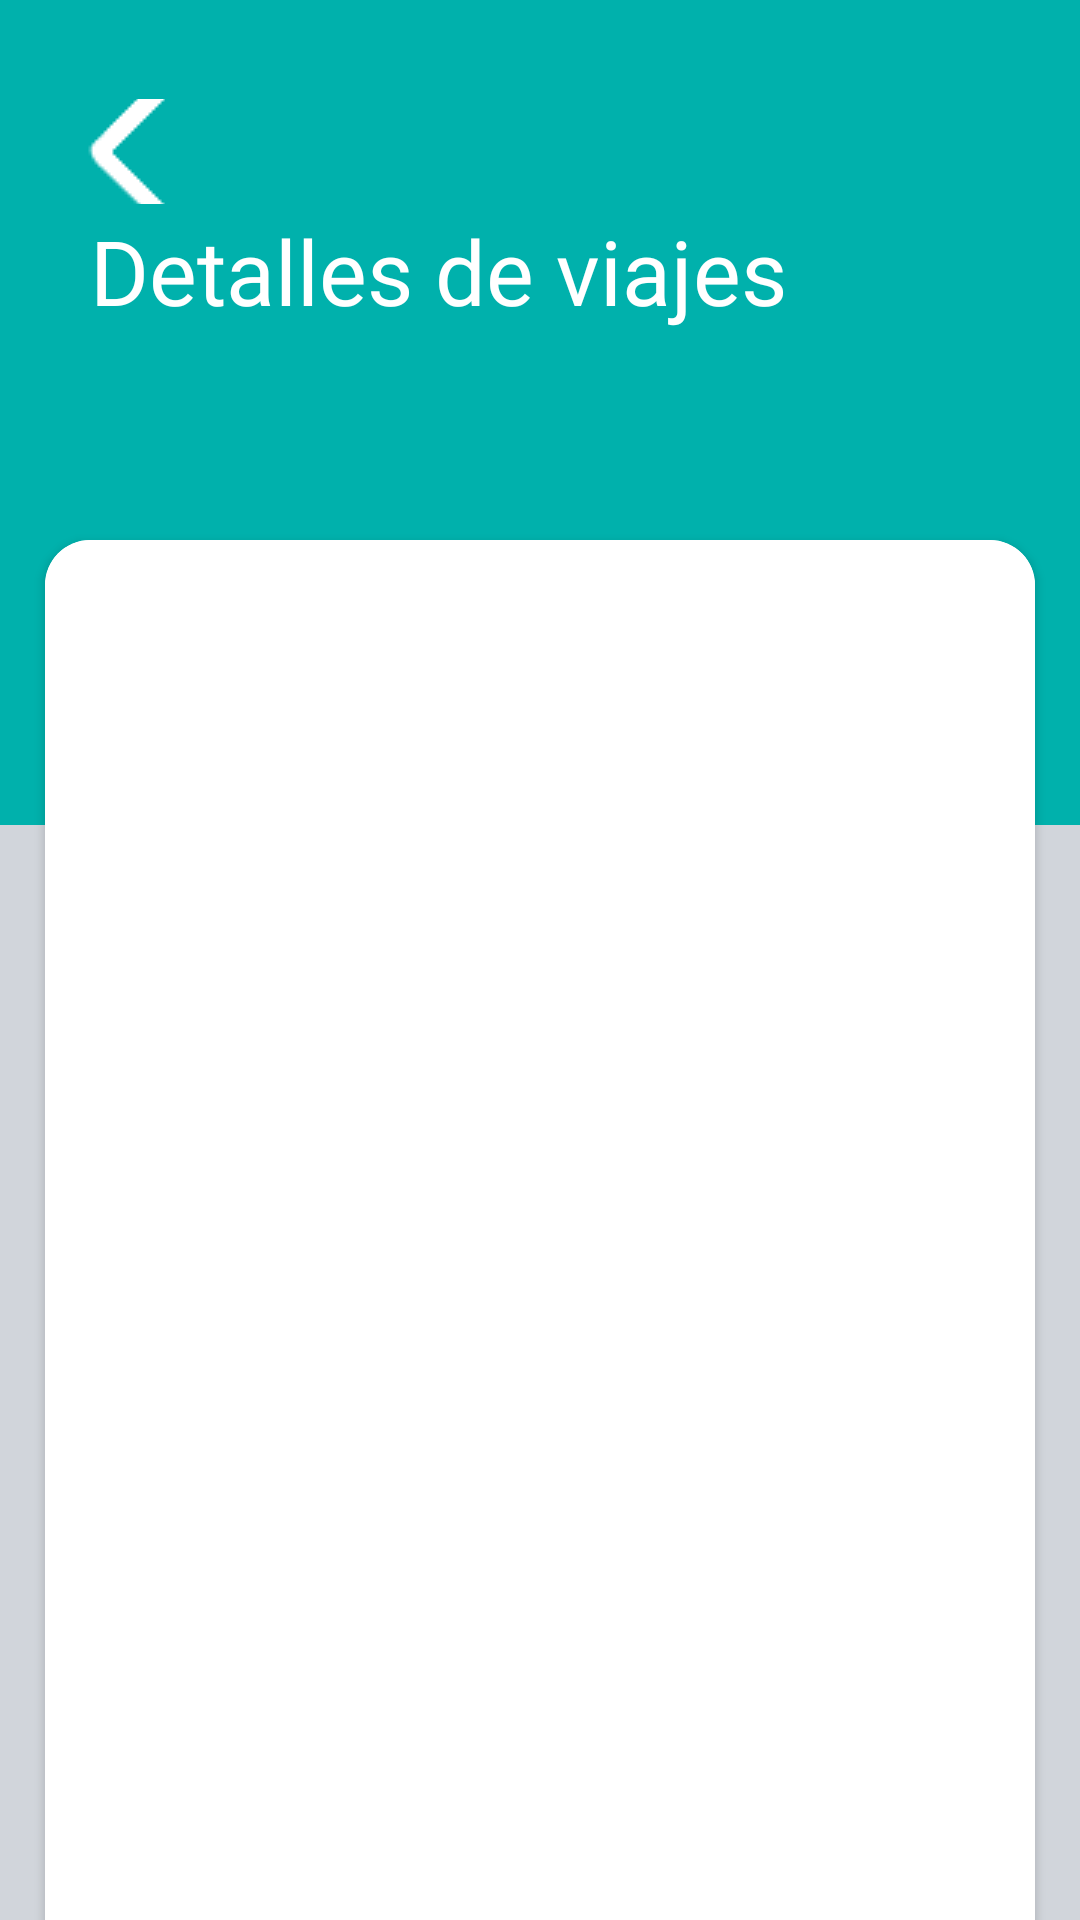

Named icons in this screenshot (1080px x 1920px) and their centers, (x,y):
arrow write: (126,151)
